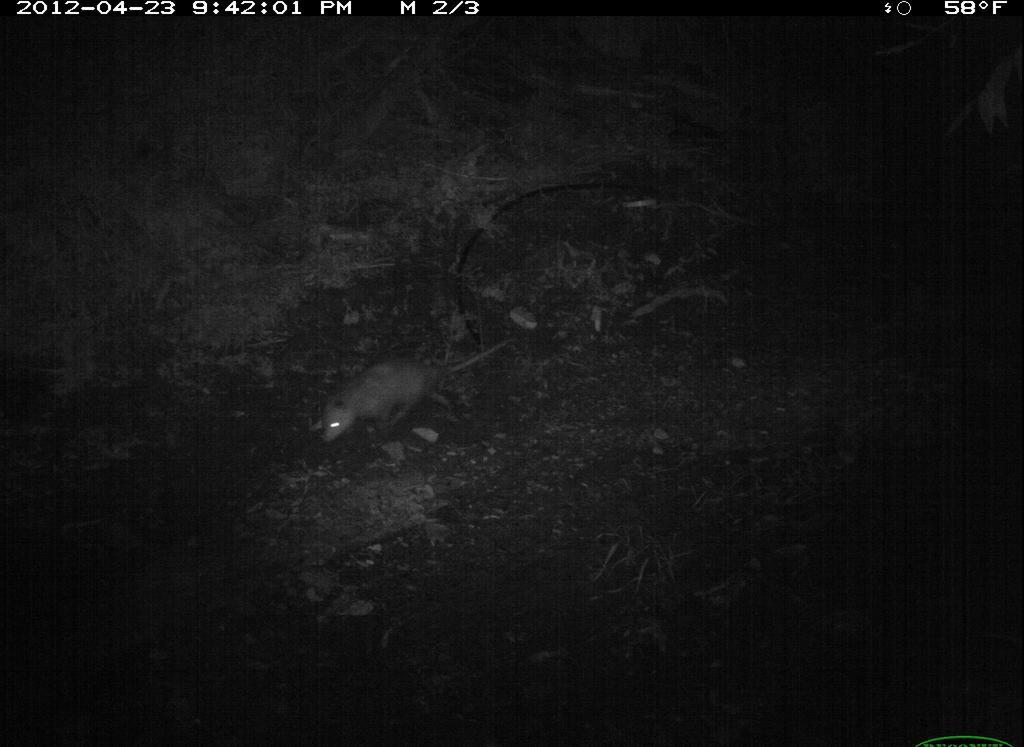opossum: (301, 332, 524, 460)
